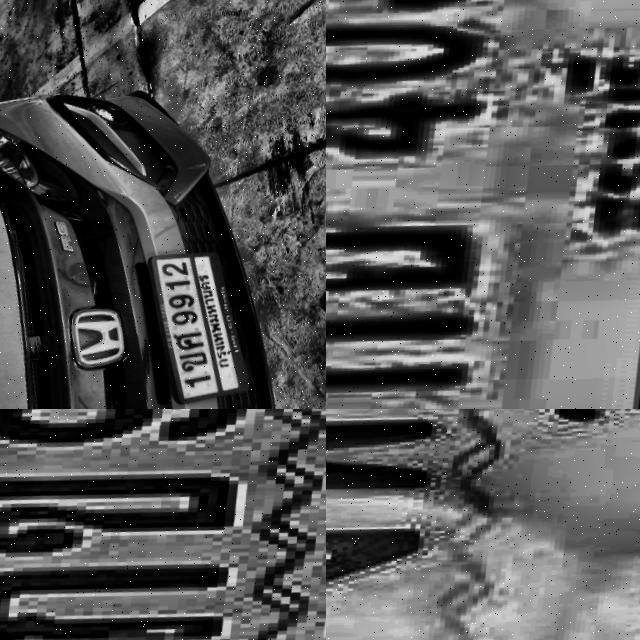license-plate: (326, 0, 640, 409), (0, 409, 326, 640), (326, 409, 640, 640), (128, 248, 268, 409)
